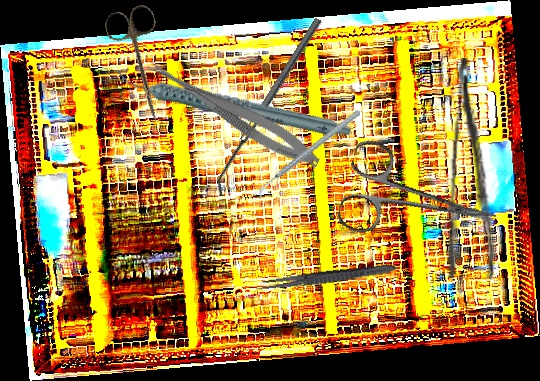Chopper: (243, 109, 375, 200)
Dressing Forceps: (444, 57, 506, 281), (255, 260, 397, 295)
Handpiece: (113, 23, 354, 182)
Iris Scissors: (334, 136, 507, 267), (101, 2, 183, 128)
Micro Scissor: (139, 54, 326, 174)
Spatula Surgical: (208, 17, 329, 197)
